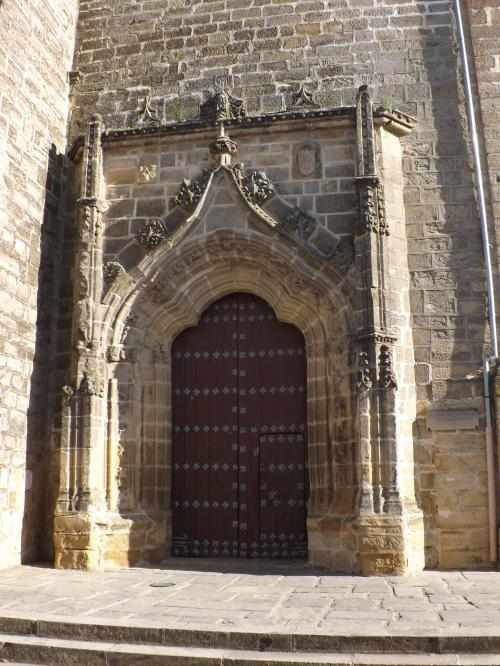arco-trilobulado: (158, 277, 324, 365)
